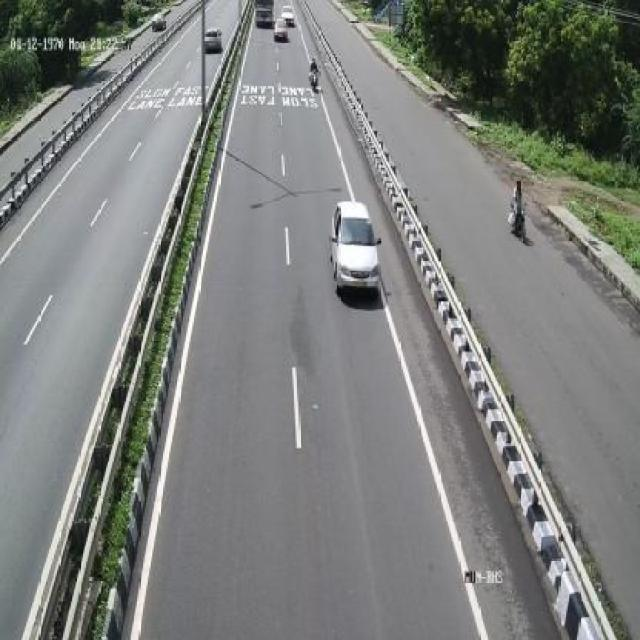car: (332, 191, 380, 294), (276, 3, 298, 43)
